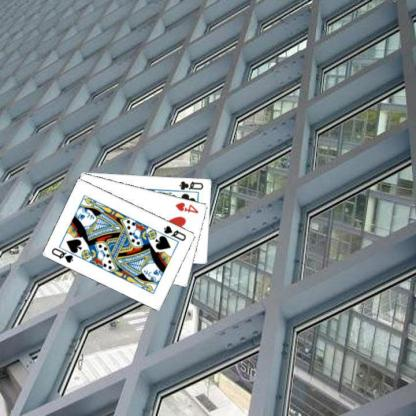4H: (173, 200, 200, 214)
QC: (177, 178, 204, 191)
QS: (161, 223, 187, 242), (49, 245, 75, 264)
